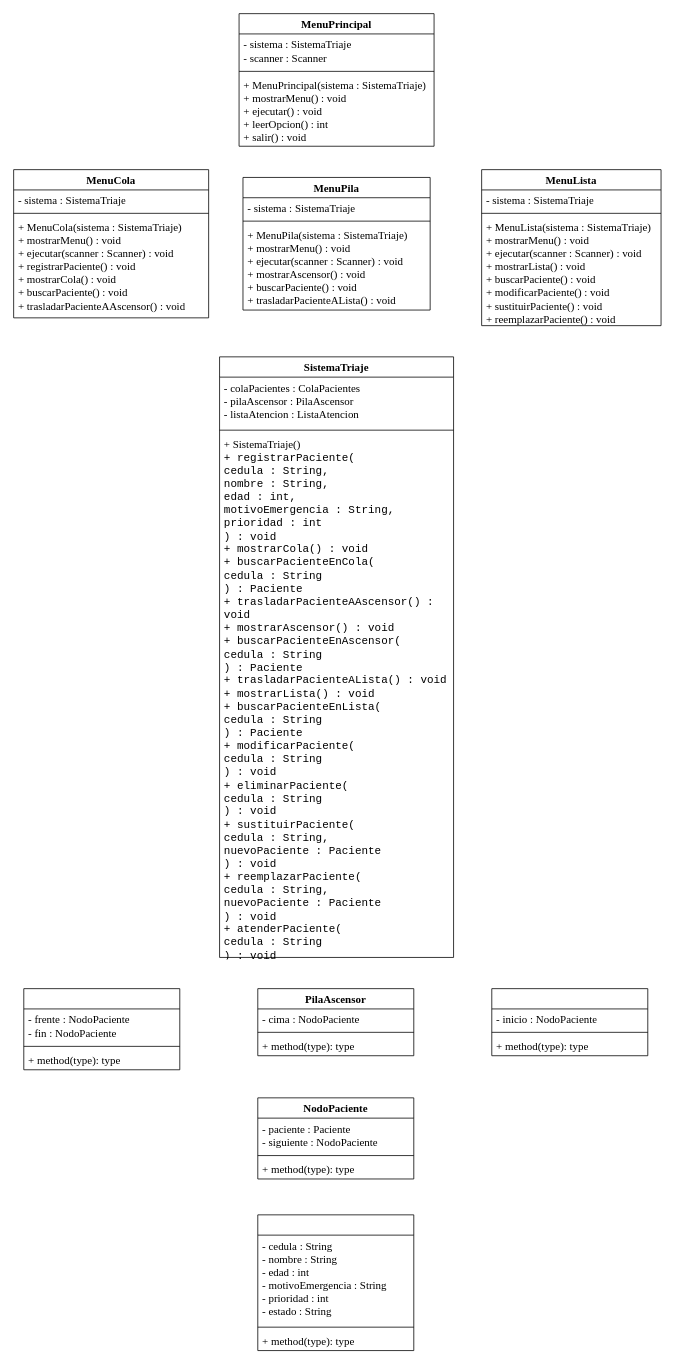
The diagram is 675 pixels wide and 1367 high, and some of its shapes have lost their labels. The shapes that lost their labels are listed below. From the top down, each one's box as (x1, y1, x2, y2) in pixels, then its label:
(23, 988, 180, 1070): ColaPacientes
(491, 988, 648, 1056): ListaAtencion
(257, 1214, 414, 1351): Paciente
